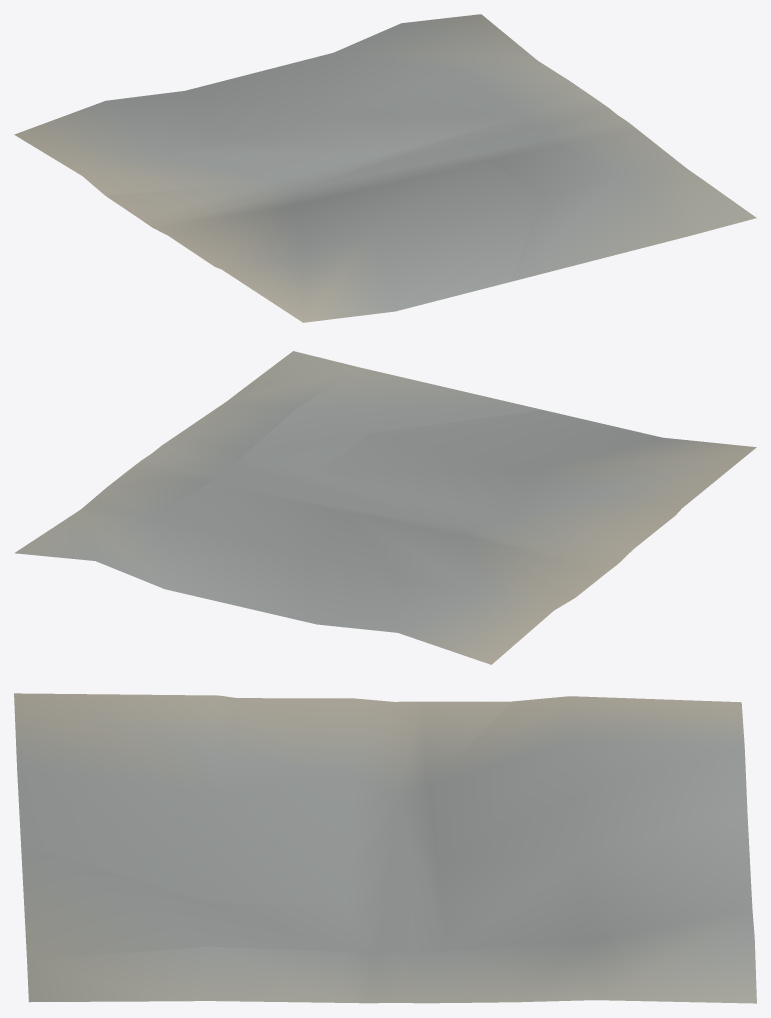
The picture shows the model from 3 angles, top to bottom: view 1: azimuth 30°, elevation 25°; view 2: azimuth 150°, elevation 25°; view 3: azimuth 270°, elevation 25°; orthographic projection. The views are drawn at different scales.
Parts seen in each view (by area): view 1: G:\FFXIV-MapTools\exports\y6f3\bg\ex5\02_ykt_y6\fld\y6f3\bgp; view 2: G:\FFXIV-MapTools\exports\y6f3\bg\ex5\02_ykt_y6\fld\y6f3\bgp; view 3: G:\FFXIV-MapTools\exports\y6f3\bg\ex5\02_ykt_y6\fld\y6f3\bgp.
Part boxes in pixels (x1,y1,x2,y2): G:\FFXIV-MapTools\exports\y6f3\bg\ex5\02_ykt_y6\fld\y6f3\bgp: (14, 14, 756, 322); G:\FFXIV-MapTools\exports\y6f3\bg\ex5\02_ykt_y6\fld\y6f3\bgp: (14, 351, 756, 664); G:\FFXIV-MapTools\exports\y6f3\bg\ex5\02_ykt_y6\fld\y6f3\bgp: (14, 693, 756, 1003).
Size of the model in its own units: 0.8457 by 0.021 by 0.8779.
